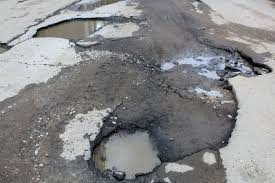pothole: (160, 46, 275, 109), (89, 119, 169, 183), (33, 14, 154, 51)
